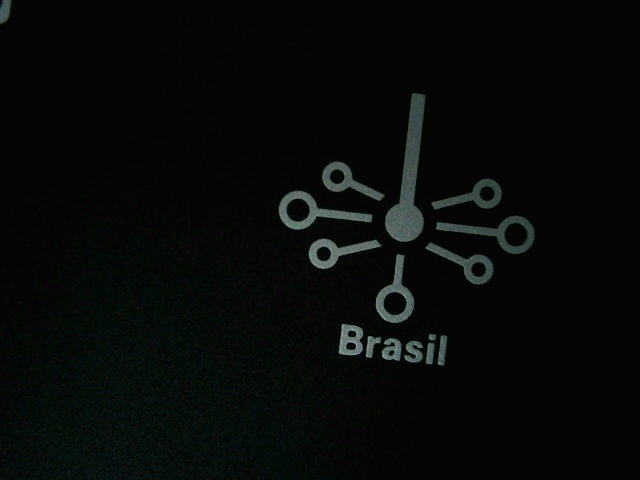BG_Brasil: (261, 84, 542, 387)
